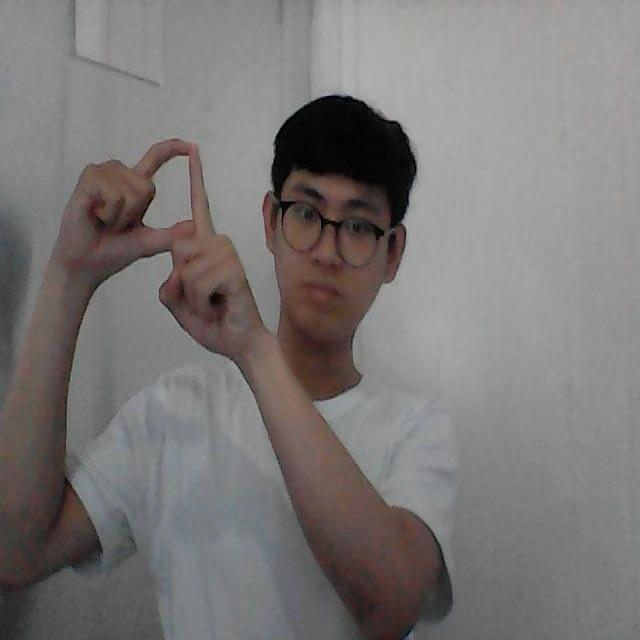D: (100, 125, 233, 300)
